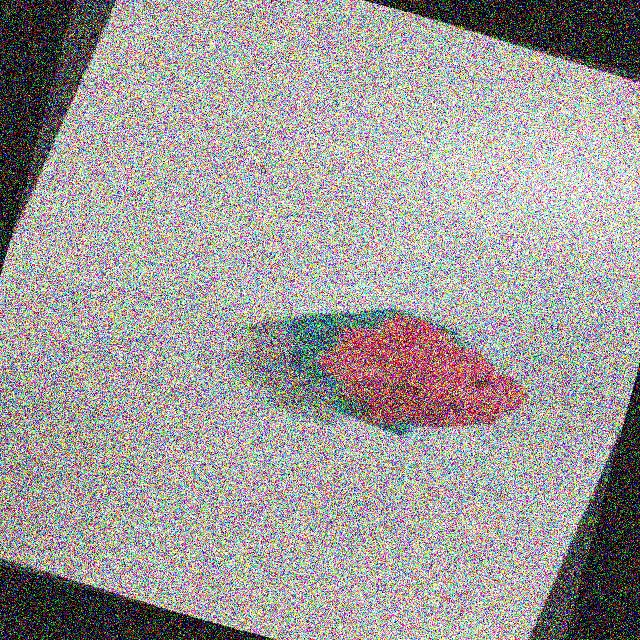House: (241, 264, 553, 469)
